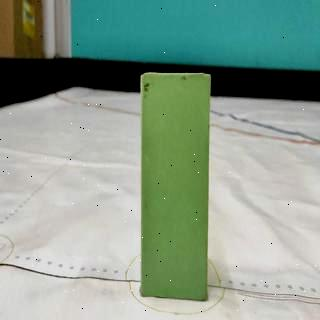greenbox: (140, 72, 210, 300)
